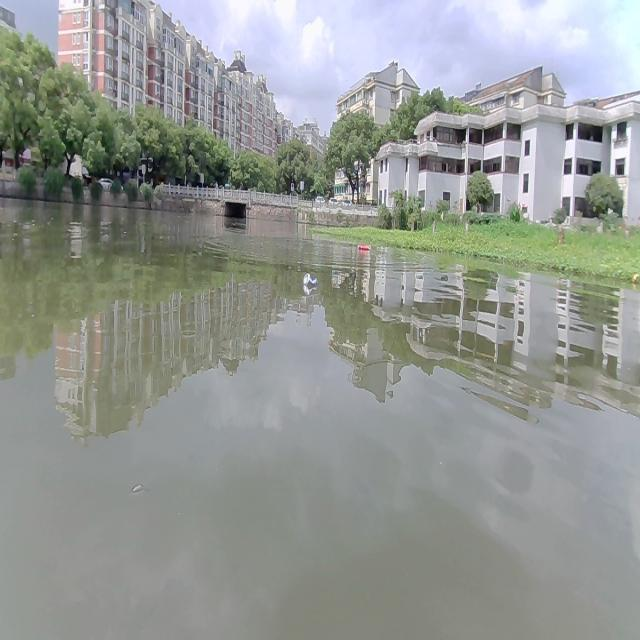bottle: (302, 272, 318, 285), (357, 243, 371, 249)
